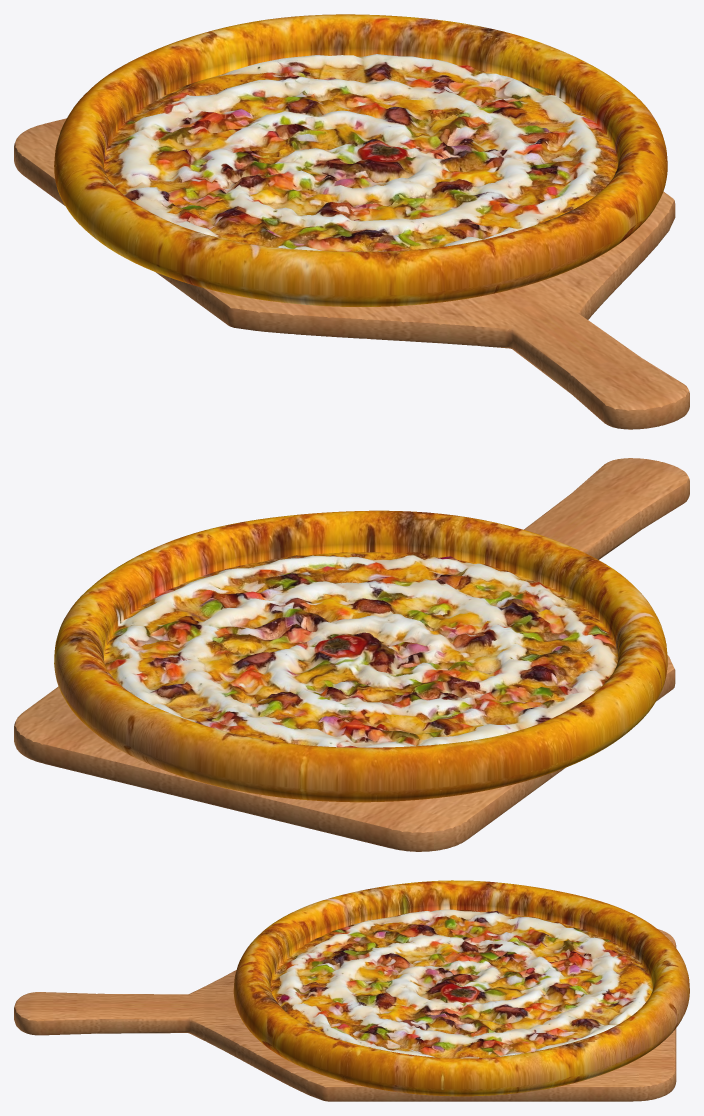
File: pizza-enchilada.glb
3 renders of one model, top to bottom at view 1: azimuth 30°, elevation 25°; view 2: azimuth 150°, elevation 25°; view 3: azimuth 270°, elevation 25°, orthographic. The views are drawn at different scales.
Parts seen in each view (by area): view 1: pizza-enchilada, peel.008; view 2: pizza-enchilada, peel.008; view 3: pizza-enchilada, peel.008.
Boxes of the visible parts, left/top/right/bottom form: pizza-enchilada: left=54, top=14, right=667, bottom=306; peel.008: left=14, top=118, right=689, bottom=429; pizza-enchilada: left=54, top=510, right=667, bottom=802; peel.008: left=14, top=458, right=689, bottom=851; pizza-enchilada: left=233, top=880, right=689, bottom=1096; peel.008: left=14, top=929, right=676, bottom=1101.
Bounding box in the file's own units: 0.3 × 0.0395 × 0.4444.
Materials: 3 (2 with a texture image).
